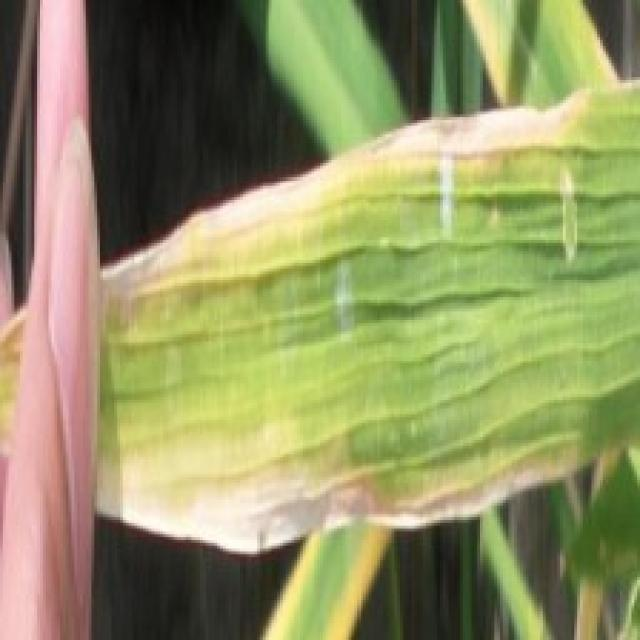Rice___Bacterial_Leaf_Blight: (0, 73, 637, 557)
